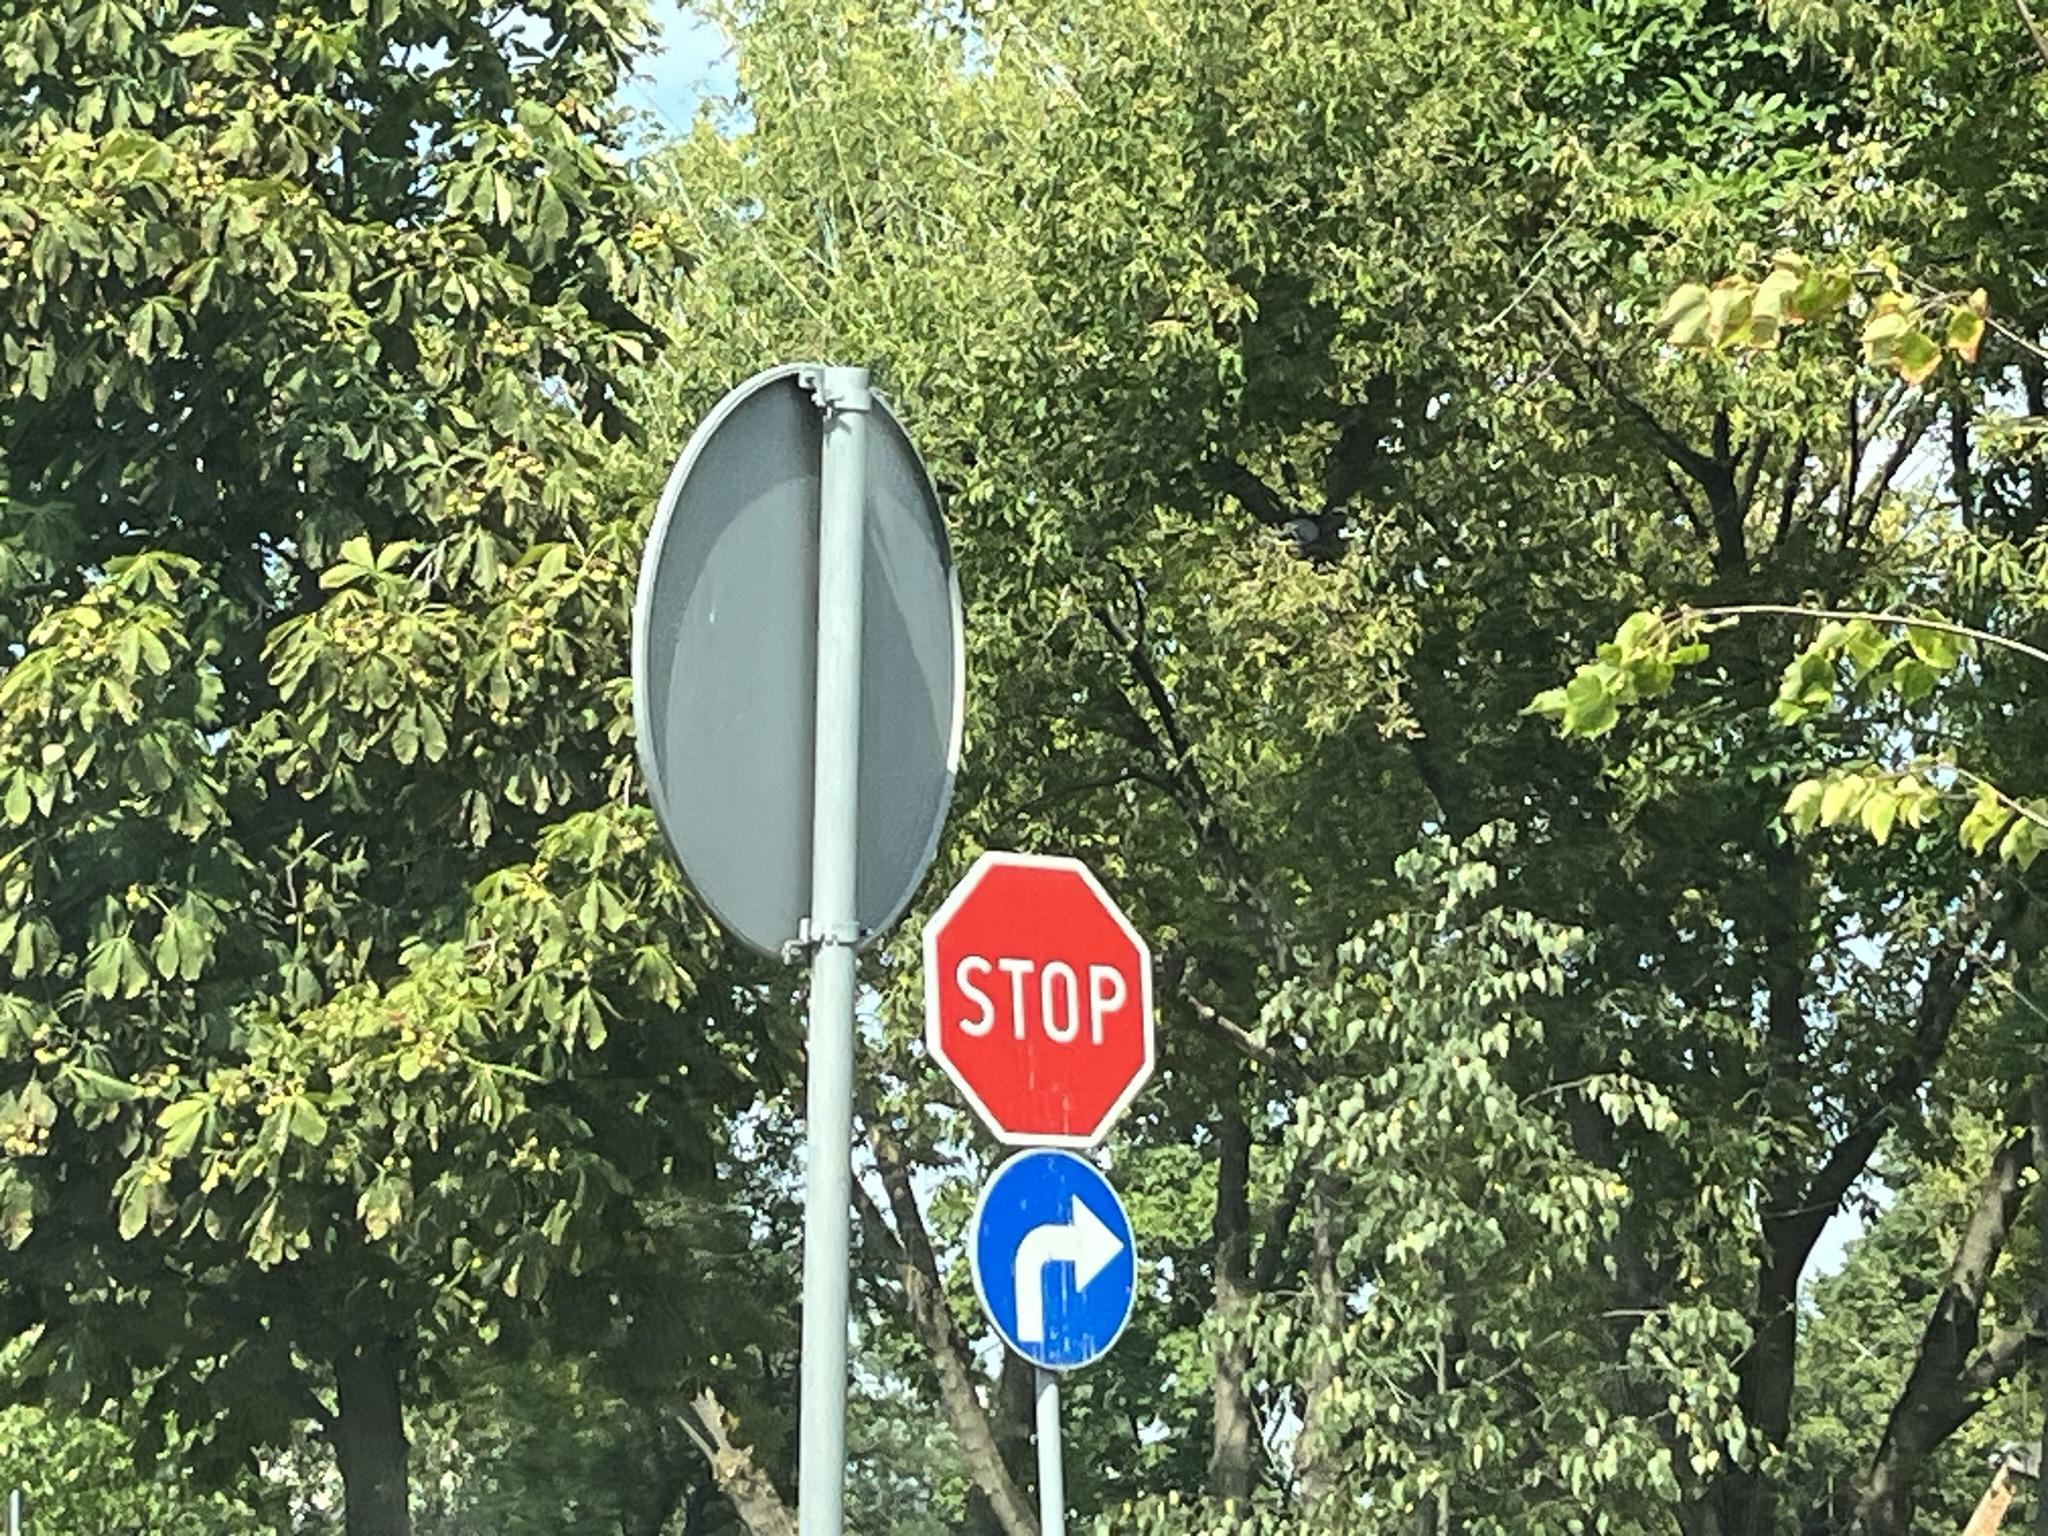mandatory: (968, 1149, 1142, 1371)
prohibitory: (924, 850, 1155, 1150)
